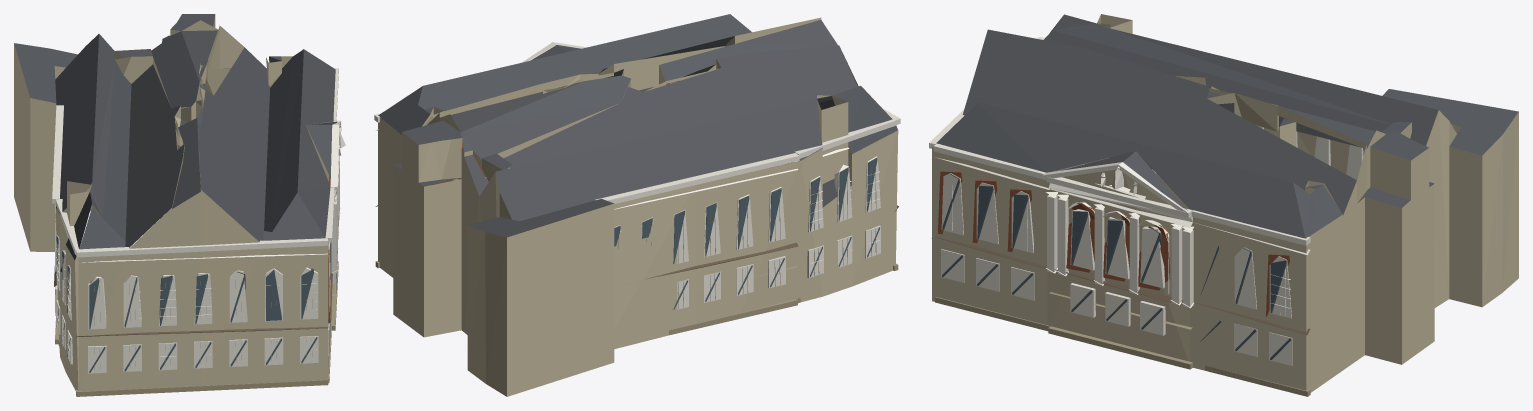
Rendered from compagnietheater.lod1.glb.
3 renders of one model, left to right at view 1: azimuth 30°, elevation 25°; view 2: azimuth 150°, elevation 25°; view 3: azimuth 270°, elevation 25°, orthographic. The views are drawn at different scales.
Parts seen in each view (by area): view 1: compagnietheater; view 2: compagnietheater; view 3: compagnietheater.
Part boxes in pixels (bbox=[...]): compagnietheater: bbox=[14, 14, 345, 396]; compagnietheater: bbox=[374, 14, 900, 396]; compagnietheater: bbox=[929, 14, 1518, 396].
Size of the model in its own units: 41.32 by 21.06 by 50.56.
